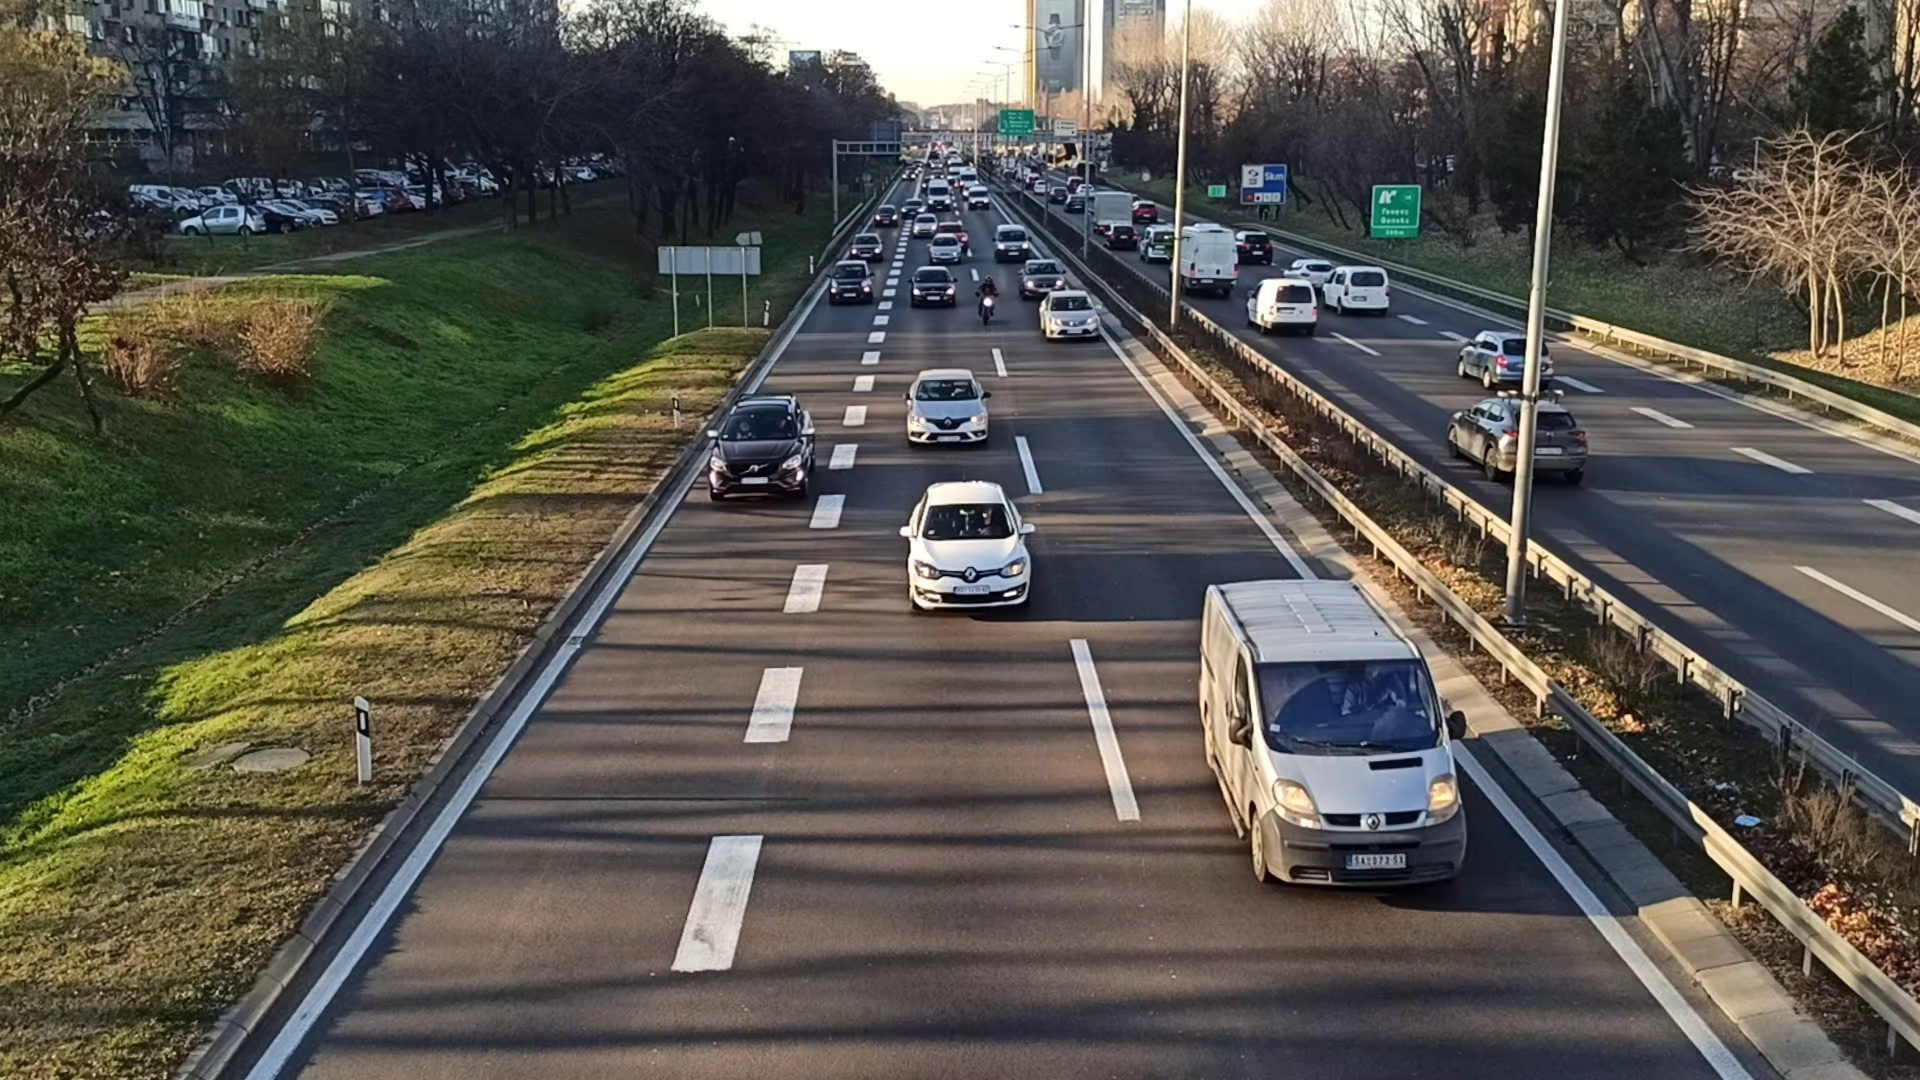car: (905, 484, 1031, 615), (1448, 396, 1589, 481), (707, 397, 818, 495), (905, 369, 989, 448), (1458, 328, 1552, 384), (1321, 262, 1390, 315), (1039, 289, 1100, 340), (828, 258, 874, 305), (911, 265, 957, 307), (1021, 258, 1065, 295), (992, 223, 1029, 258), (851, 229, 881, 258), (928, 233, 961, 260), (1105, 223, 1138, 249)
motorcycle: (976, 273, 998, 323)
van: (1197, 582, 1469, 889), (1175, 220, 1240, 293), (1247, 280, 1316, 331)
